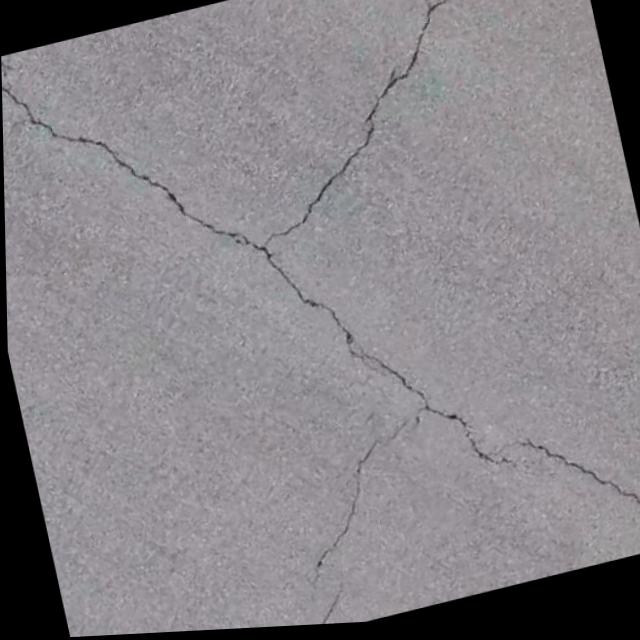Crack: (25, 0, 576, 551), (498, 387, 640, 586)
